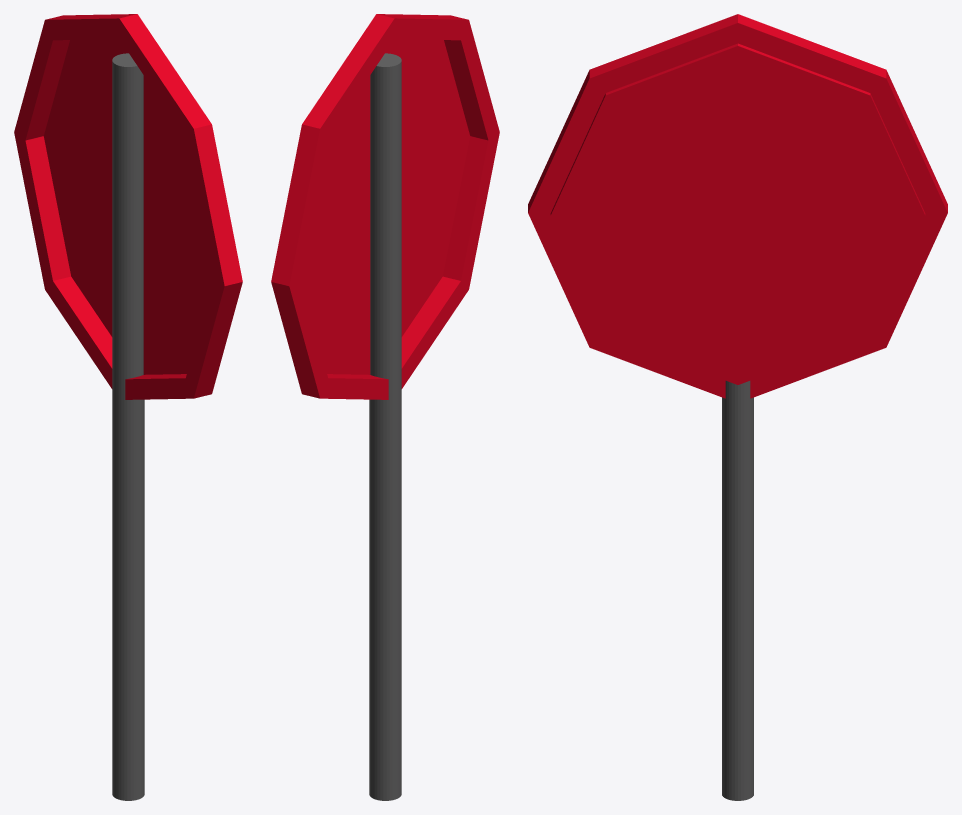
3 views of the same model, side by side, from view 1: azimuth 30°, elevation 25°; view 2: azimuth 150°, elevation 25°; view 3: azimuth 270°, elevation 25° (orthographic).
Parts seen in each view (by area): view 1: Cylinder; view 2: Cylinder; view 3: Cylinder.
Boxes of the visible parts, bbox=[...] form: Cylinder: bbox=[14, 14, 242, 800]; Cylinder: bbox=[271, 14, 499, 800]; Cylinder: bbox=[528, 14, 947, 800].
Bounding box in the file's own units: 20 × 530 × 260.
